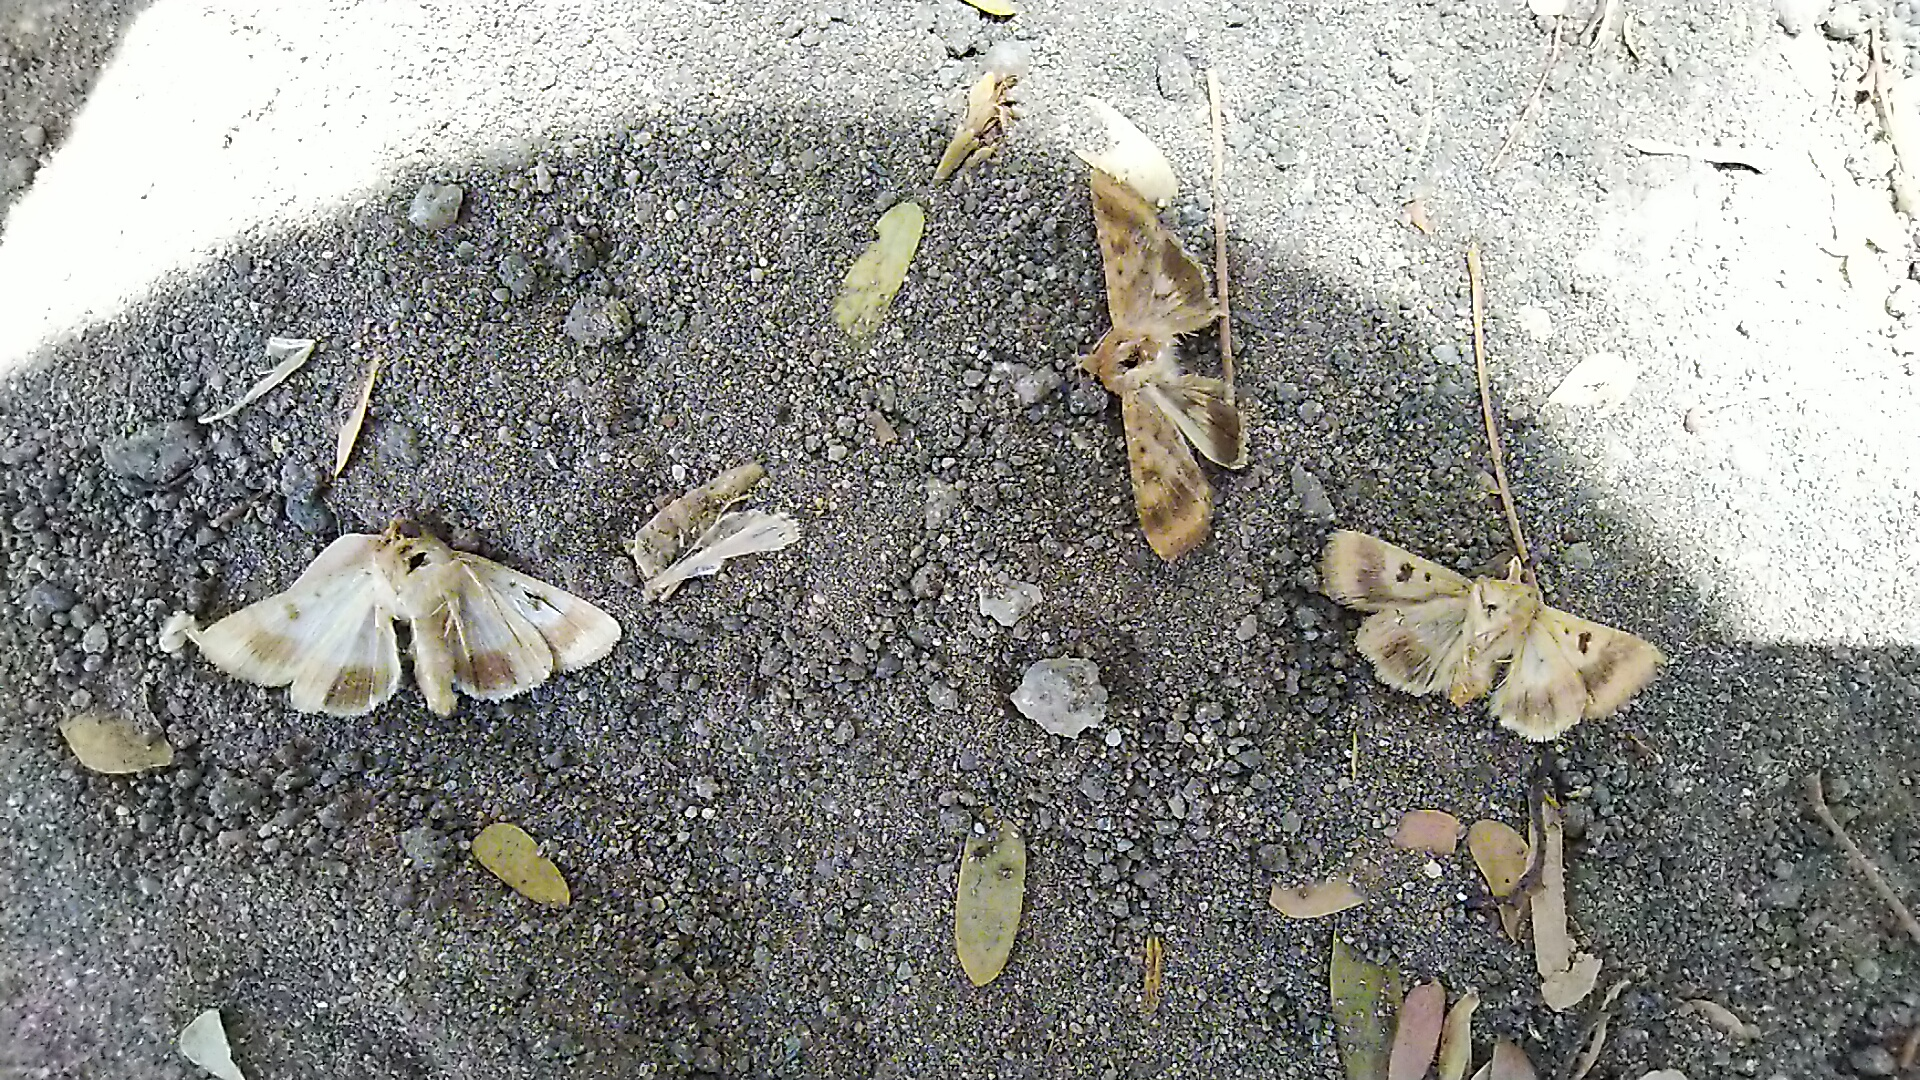INS-C: (1047, 138, 1262, 609), (196, 493, 632, 723), (1313, 491, 1679, 745)
